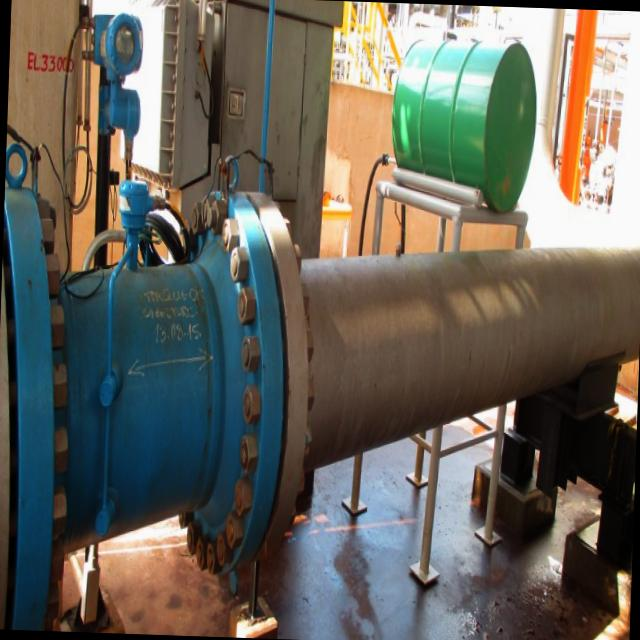gas: (0, 242, 640, 566)
